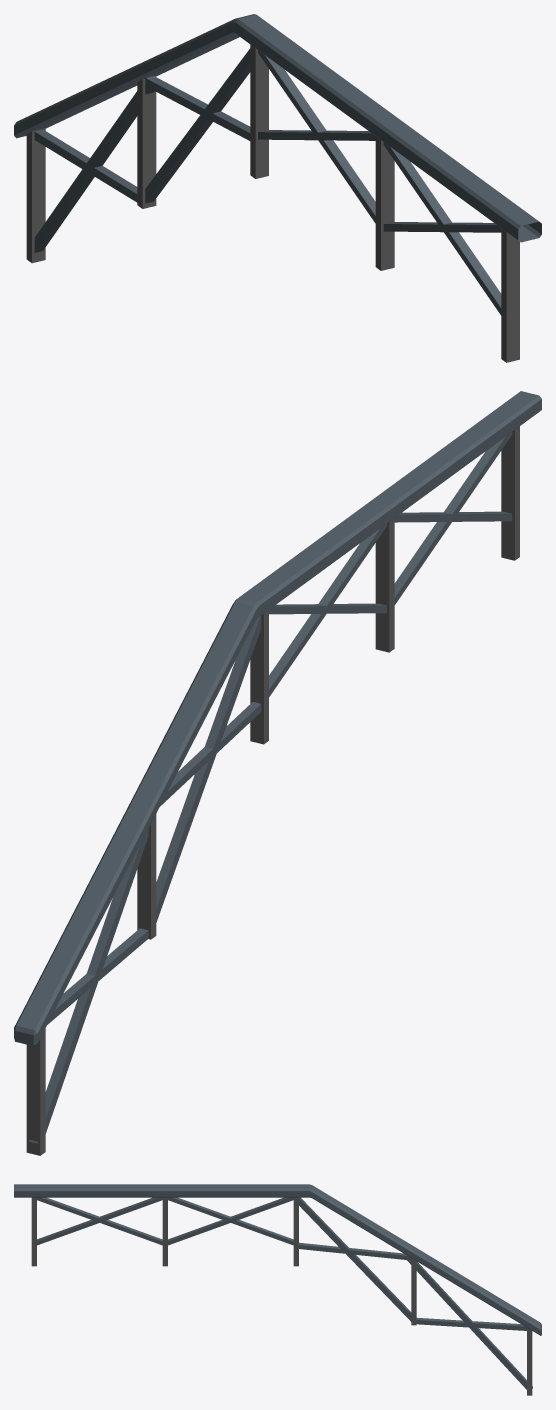
File: AriesRoomBaranda.fbx
3 views of the same model, one above another, from view 1: azimuth 30°, elevation 25°; view 2: azimuth 150°, elevation 25°; view 3: azimuth 270°, elevation 25° (orthographic). The views are drawn at different scales.
Visible parts, largest first — view 1: NurbsPath; view 2: NurbsPath; view 3: NurbsPath.
Boxes of the visible parts, x1,y1,x2,y2 form: NurbsPath: (14, 14, 541, 362); NurbsPath: (14, 391, 541, 1155); NurbsPath: (14, 1184, 541, 1395).
Bounding box in the file's own units: 217 × 3489 × 8048.
